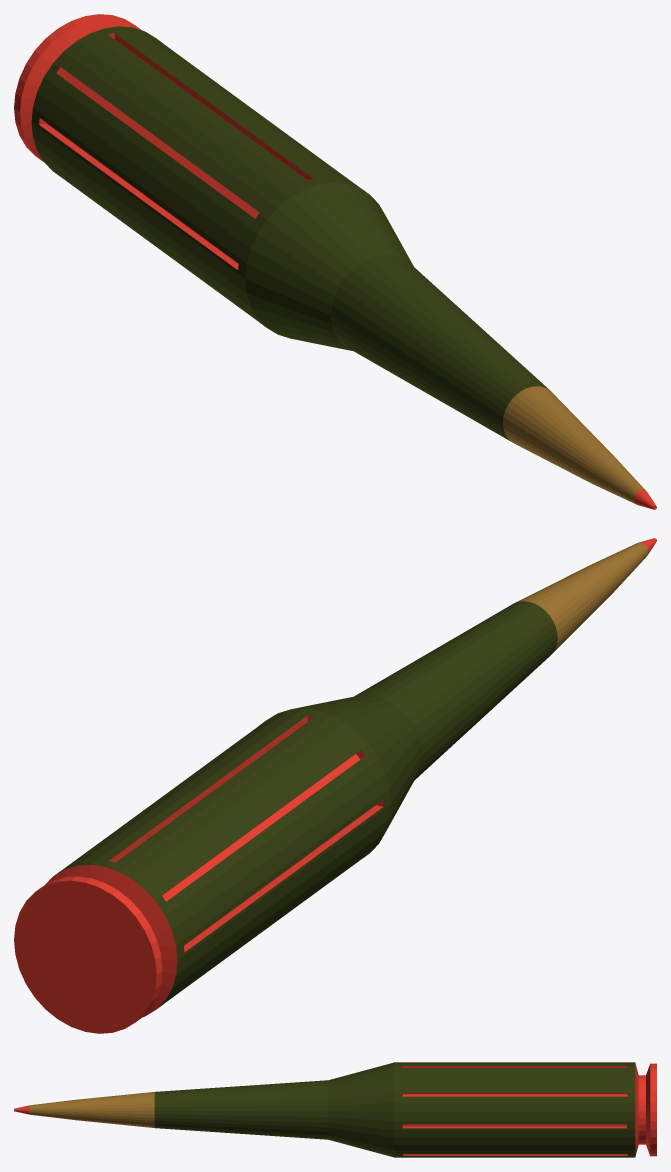
Rendered from bala.fbx.
The picture shows the model from 3 angles, top to bottom: view 1: azimuth 30°, elevation 25°; view 2: azimuth 150°, elevation 25°; view 3: azimuth 270°, elevation 25°; orthographic projection. The views are drawn at different scales.
Visible parts, largest first — view 1: Cylinder; view 2: Cylinder; view 3: Cylinder.
Boxes of the visible parts, x1,y1,x2,y2 form: Cylinder: (14, 14, 656, 509); Cylinder: (14, 538, 656, 1033); Cylinder: (14, 1062, 656, 1157).
Size of the model in its own units: 362 by 362 by 2449.
